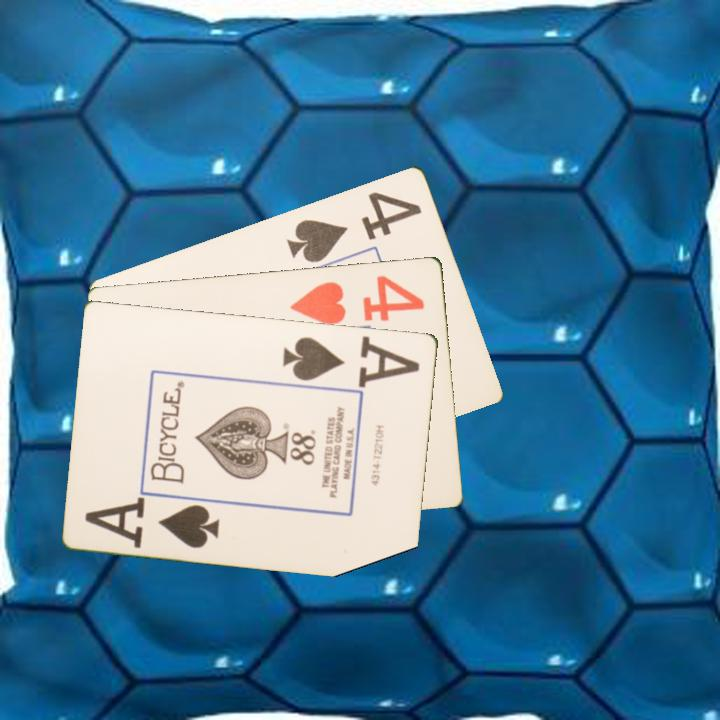4h: (287, 271, 428, 327)
4s: (283, 187, 425, 265)
As: (82, 494, 223, 551), (279, 333, 410, 383)
